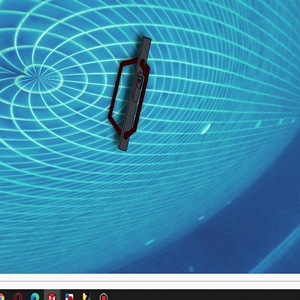submarine: (108, 36, 155, 149)
